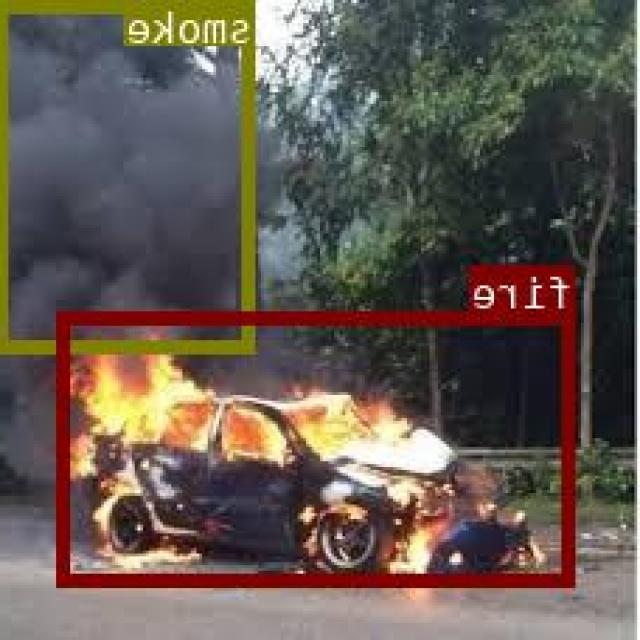fire: (61, 309, 576, 584)
smoke: (0, 0, 258, 349)
